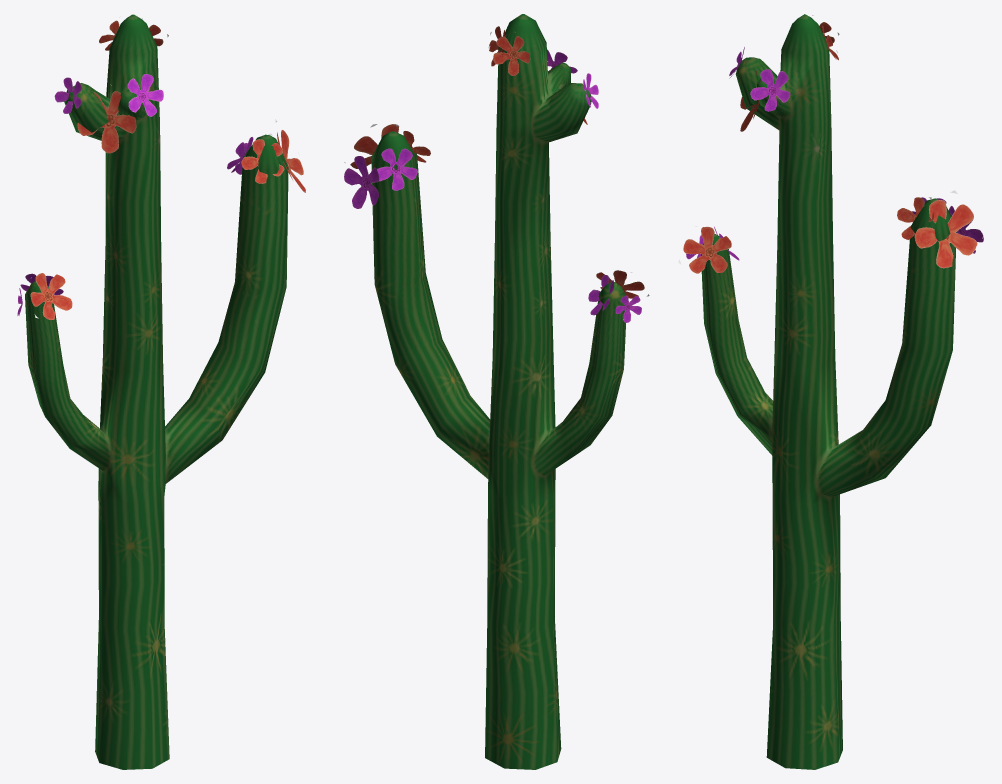
The model's file is cactus.fbx.
3 renders of one model, left to right at view 1: azimuth 30°, elevation 25°; view 2: azimuth 150°, elevation 25°; view 3: azimuth 330°, elevation 25°, orthographic.
Parts seen in each view (by area): view 1: cactus; view 2: cactus; view 3: cactus.
Part boxes in pixels (bbox=[...]): cactus: bbox=[17, 14, 305, 769]; cactus: bbox=[344, 14, 649, 769]; cactus: bbox=[678, 14, 983, 769].
Size of the model in its own units: 17.5 by 42.16 by 5.42.
